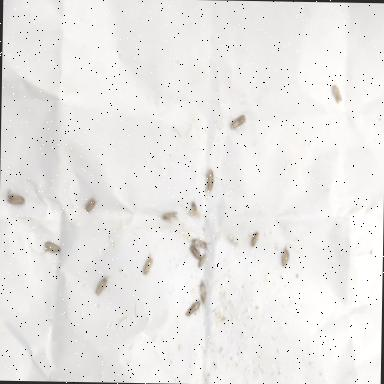pbw: (196, 278, 208, 310), (6, 194, 26, 210), (96, 276, 112, 296), (42, 240, 62, 254), (192, 238, 212, 252), (186, 299, 201, 316), (144, 252, 154, 275), (231, 115, 246, 130), (206, 168, 213, 198), (332, 84, 342, 104), (86, 198, 100, 212), (190, 244, 202, 260), (282, 242, 290, 266), (250, 232, 259, 250), (162, 212, 178, 220), (198, 254, 207, 268), (189, 210, 202, 217), (192, 198, 198, 211)
